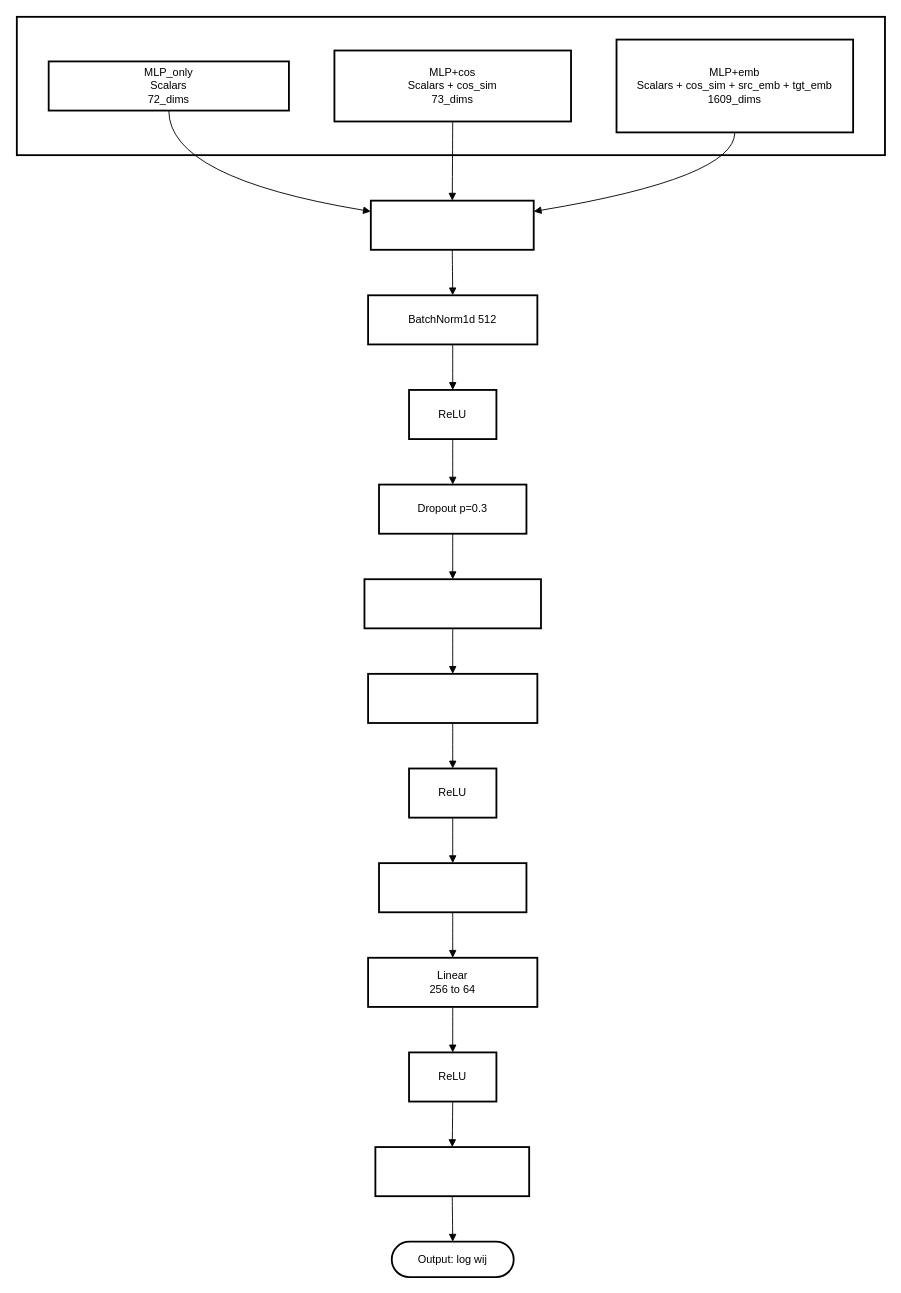
This 901x1293 diagram has some shape labels left out. The centre of each missing label's shape, as x and y in pixels:
BatchNorm1d 256: [452,697]
Dropout p=0.2: [452,887]
Linear 512 to 256: [452,603]
Linear 64 to 1: [452,1171]
Linear D to 512: [451,224]
